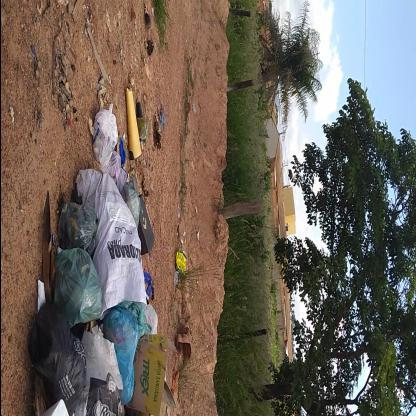lixo: (30, 95, 167, 416)
